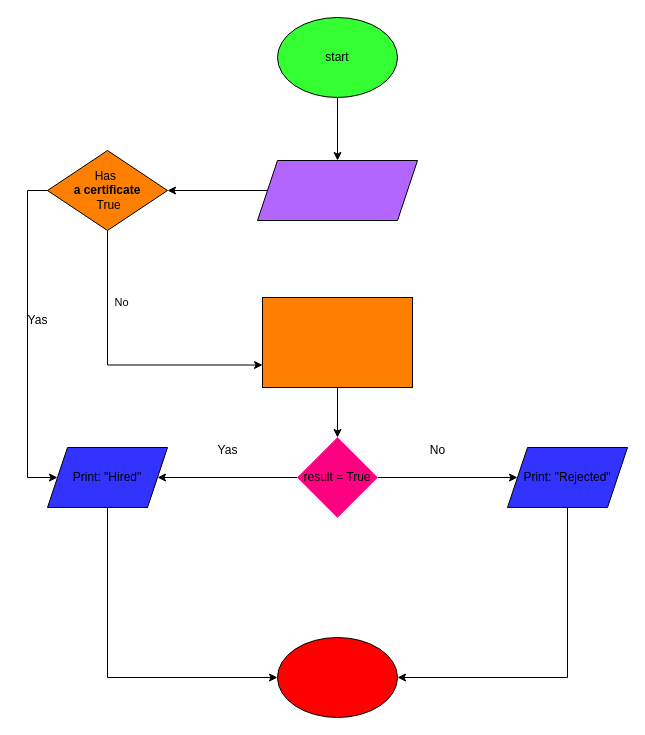
Some shapes in this 645 by 735 pixel diagram are drawn without their labels. The shapes that lost their labels are listed below. From the top down, each one's box as (x1, y1, x2, y2) in pixels, then its label:
(256, 160, 418, 220): Read: age Read: Driver license Read: certificate ,
(262, 296, 412, 388): result = ( age > 21 and has a driver License = True)
(276, 636, 398, 718): End
